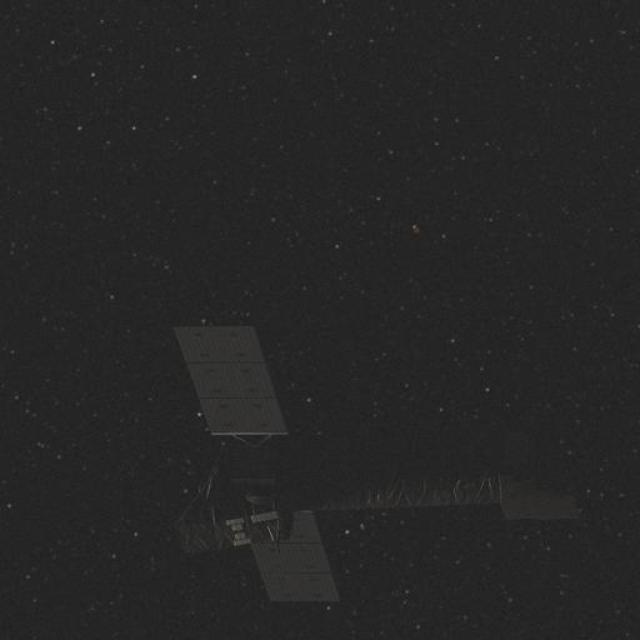xmm_newton: (130, 317, 626, 640)
